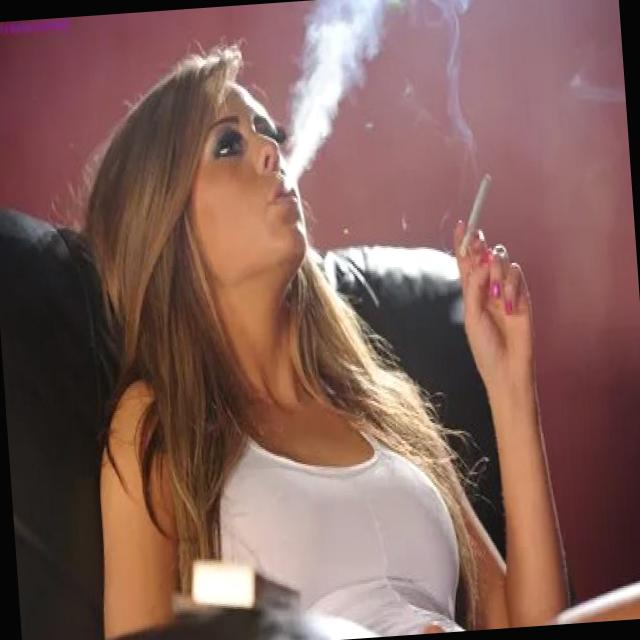cigarette: (450, 168, 499, 262)
